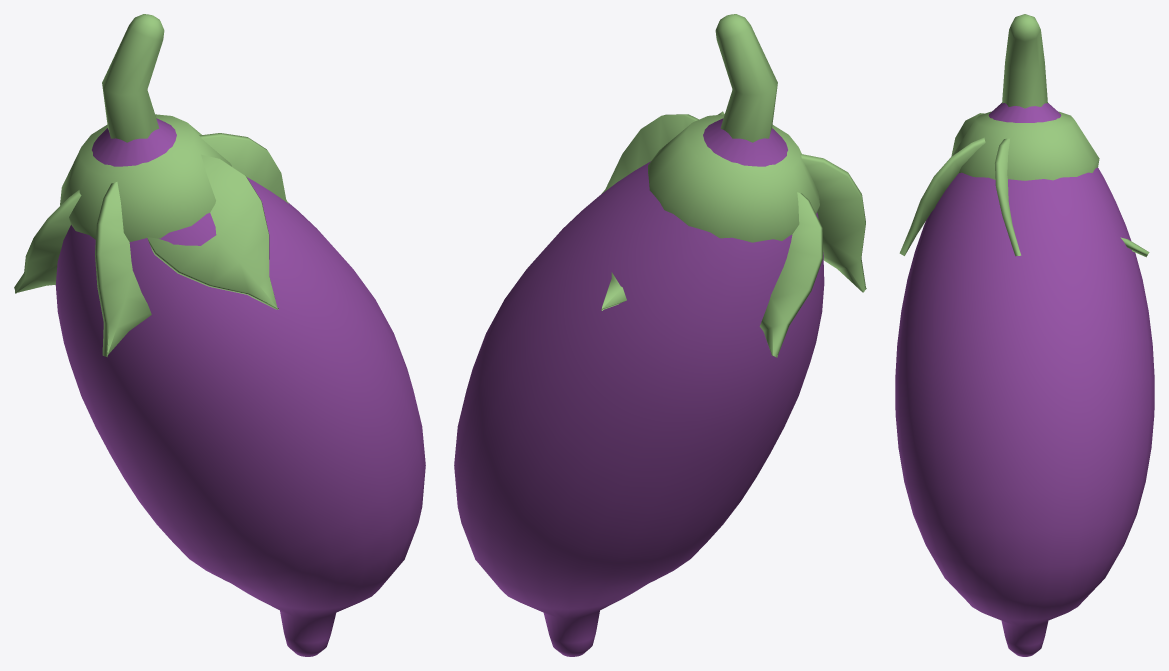
The model's file is veg_eggplant.glb.
3 renders of one model, left to right at view 1: azimuth 30°, elevation 25°; view 2: azimuth 150°, elevation 25°; view 3: azimuth 270°, elevation 25°, orthographic. The views are drawn at different scales.
Visible parts, largest first — view 1: veg_eggplant; view 2: veg_eggplant; view 3: veg_eggplant.
Boxes of the visible parts, x1=… form: veg_eggplant: x1=14, y1=14, x2=425, y2=656; veg_eggplant: x1=454, y1=14, x2=866, y2=656; veg_eggplant: x1=895, y1=14, x2=1154, y2=656.
Size of the model in its own units: 0.3538 by 0.6361 by 0.2611.
